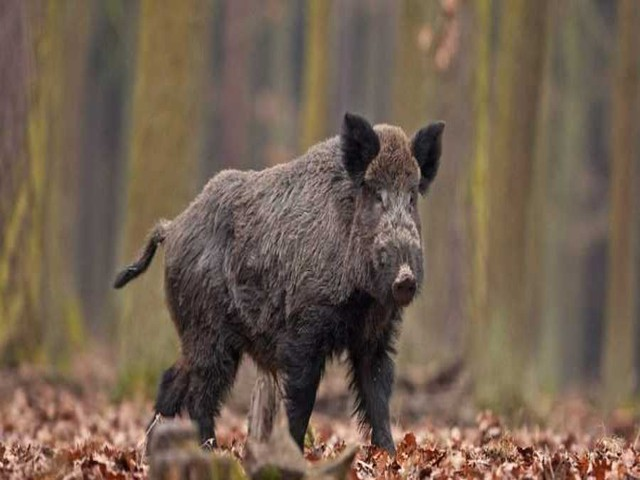Pig: (131, 113, 453, 430)
